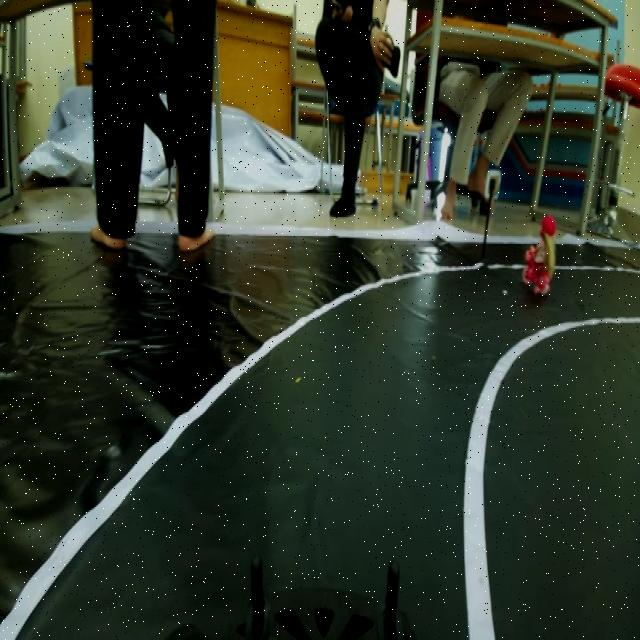pedestrian: (524, 201, 564, 315)
